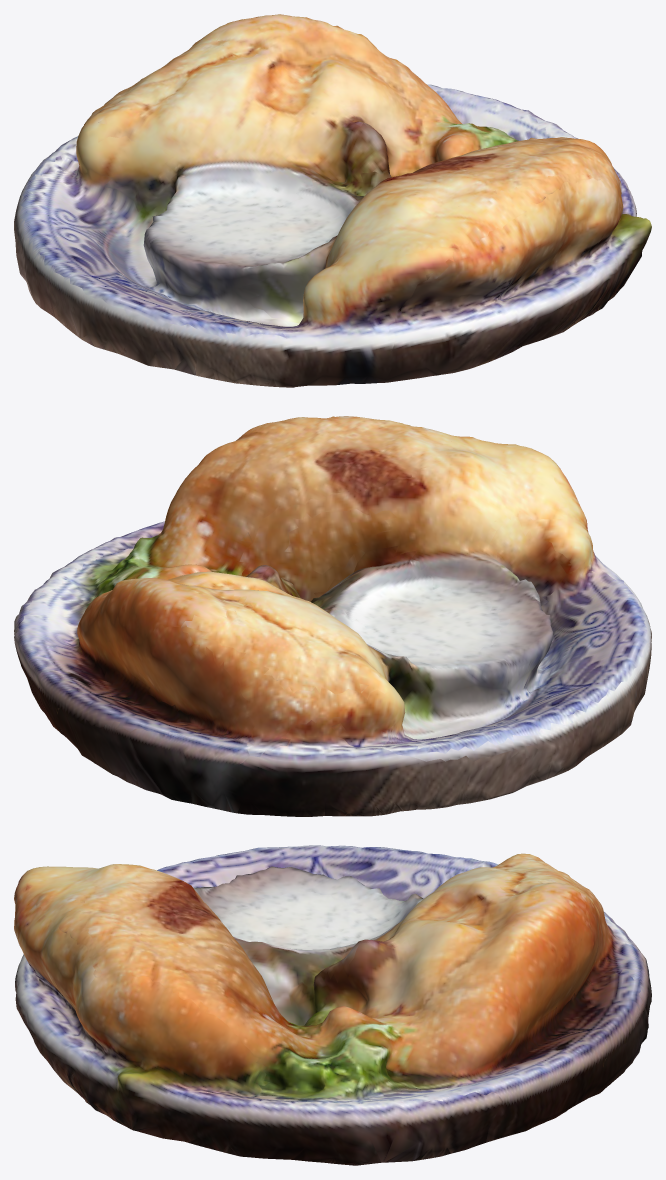
The model's file is empanada.dae.
3 renders of one model, top to bottom at view 1: azimuth 30°, elevation 25°; view 2: azimuth 150°, elevation 25°; view 3: azimuth 270°, elevation 25°, orthographic. The views are drawn at different scales.
Visible parts, largest first — view 1: mesh_001; view 2: mesh_001; view 3: mesh_001.
Part boxes in pixels (<box>): mesh_001: <box>14,14,651,387</box>; mesh_001: <box>14,416,651,816</box>; mesh_001: <box>14,845,651,1165</box>.
Bounding box in the file's own units: 0.972 × 0.976 × 0.2728.
Materials: 1 (1 with a texture image).
